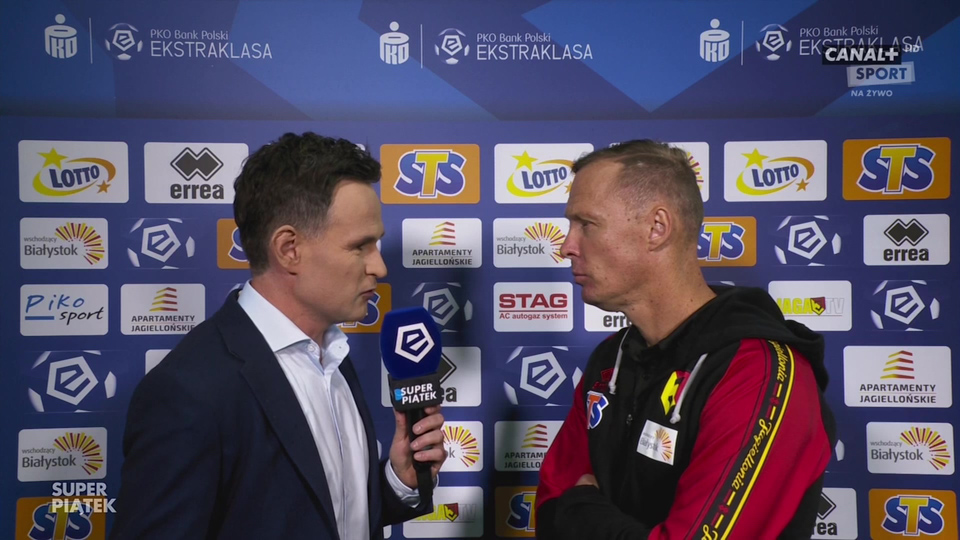pko: (369, 19, 417, 67), (690, 17, 737, 64), (39, 14, 84, 59)
